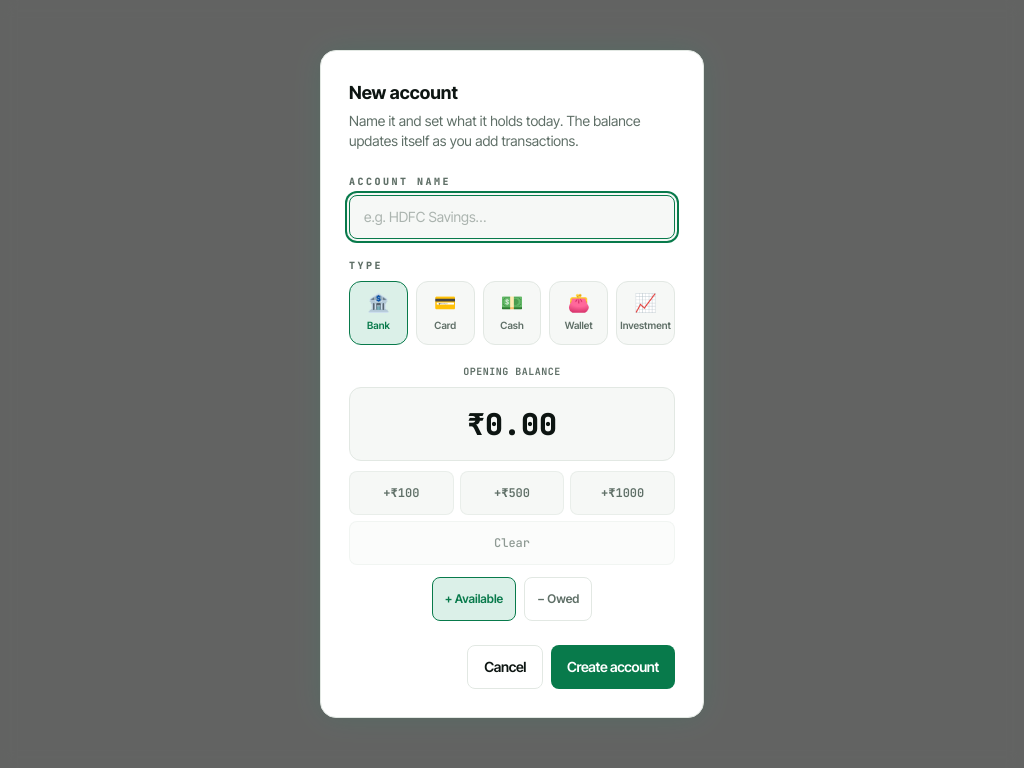
Scenario: CreateAccountSheet › keeps a useful error when account creation fails
In the field labelled "Account name": (512, 217) [349,195,675,239], type "Cash"
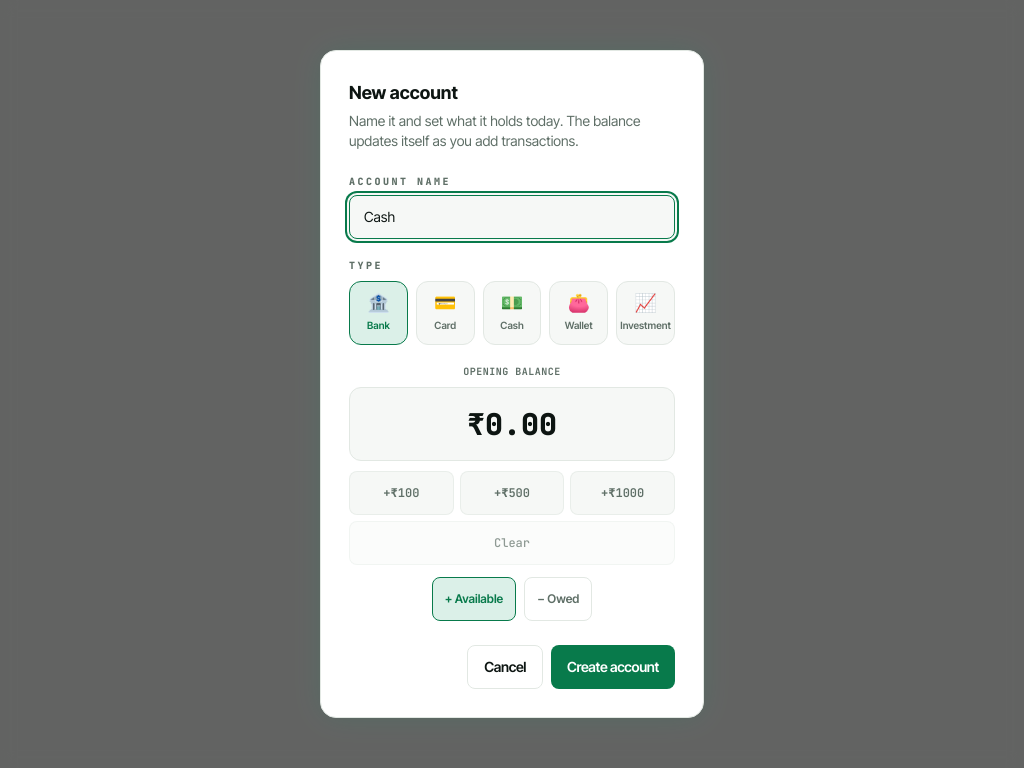
Click the button "Create account": click(613, 667) [551,645,675,689]
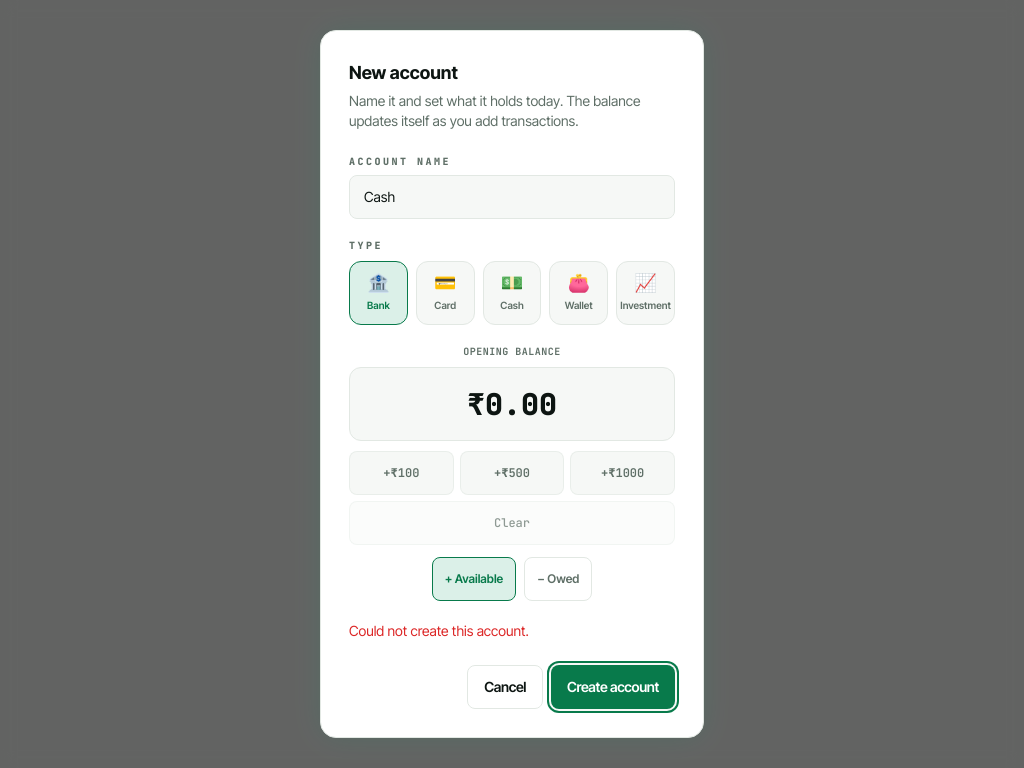
Result: the message reads "Could not create this account." at [349,622,529,639]
